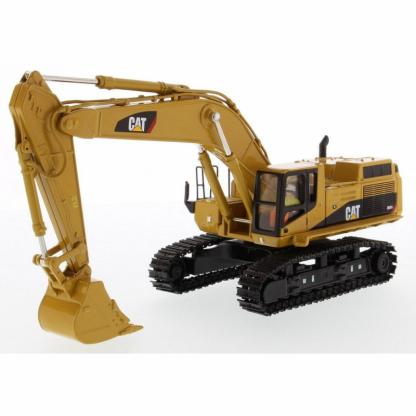excavator: (9, 59, 415, 355)
